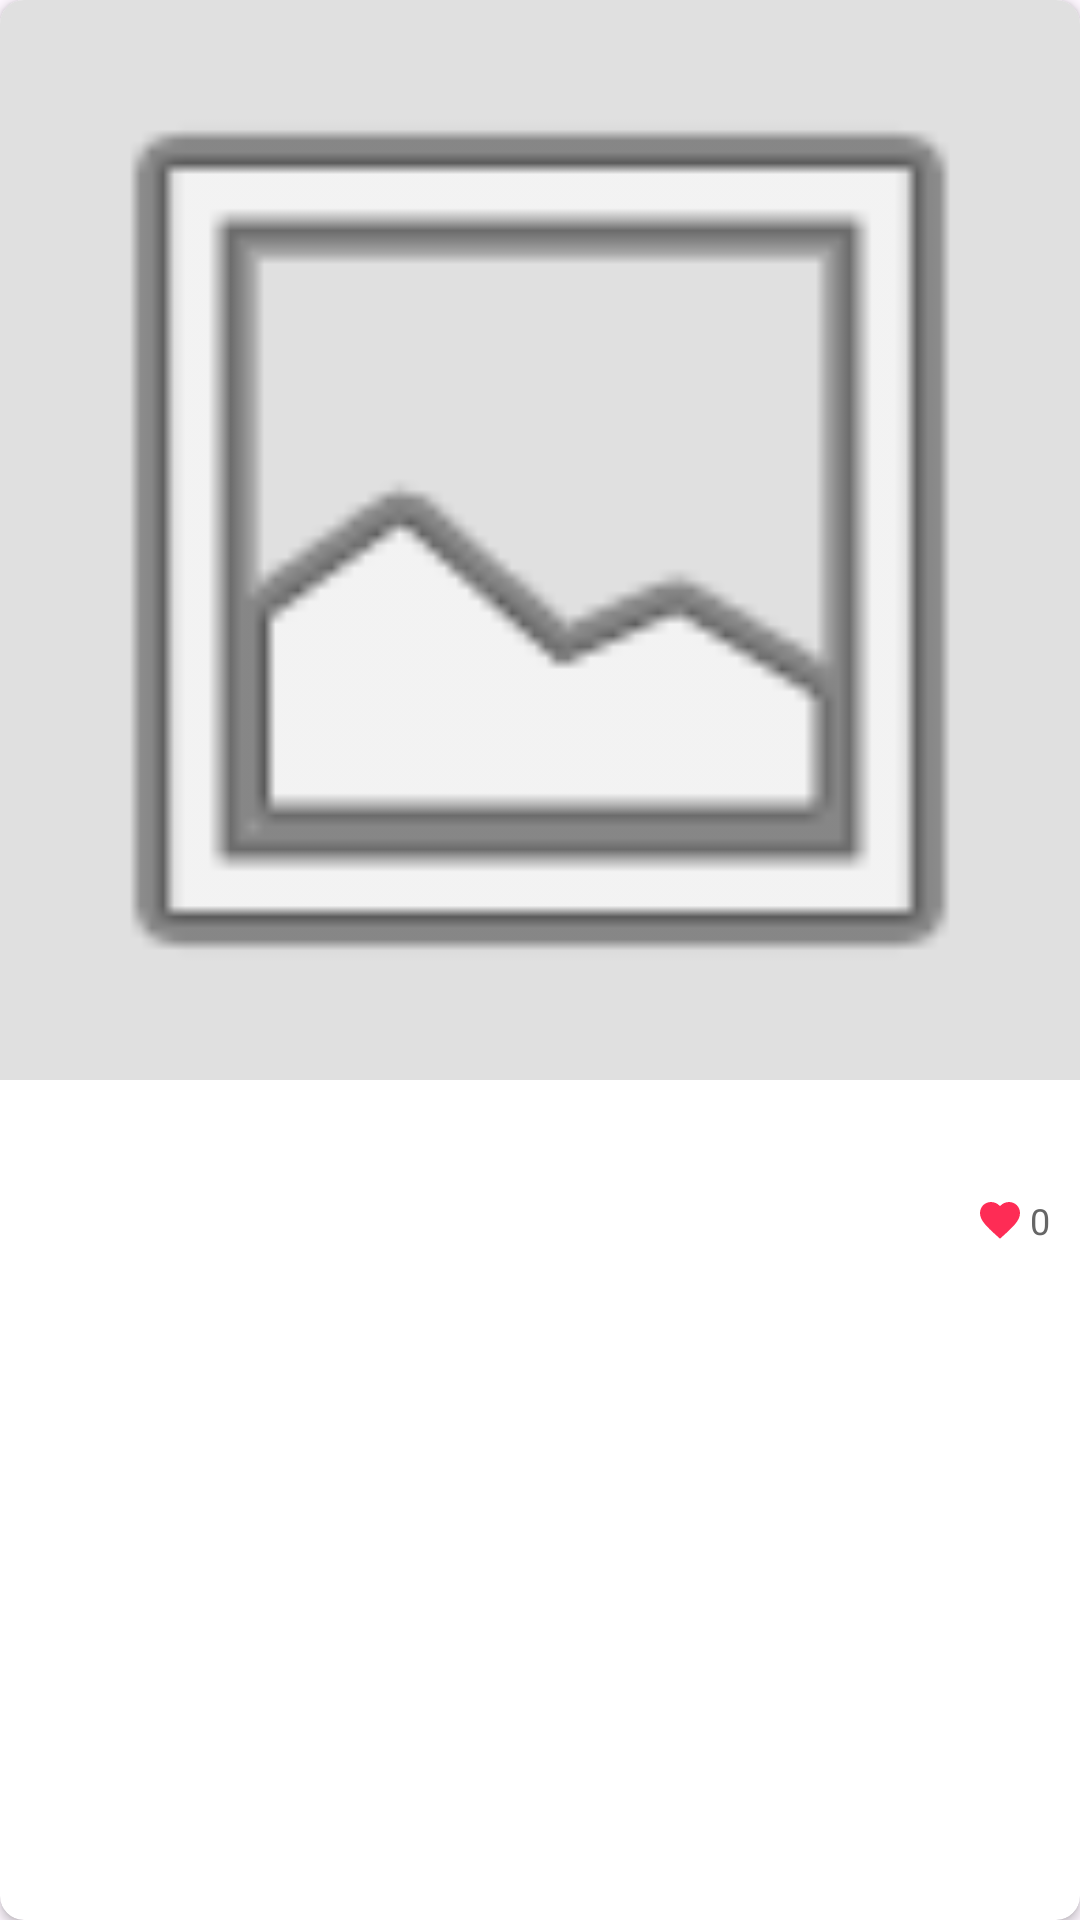

Icons on this 1080 x 1920 Android screen, each with the point to tap as (x,y):
heart: (1000,1220)
